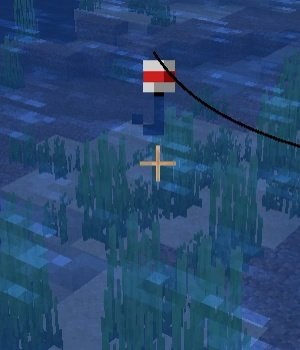up: (132, 54, 178, 137)
